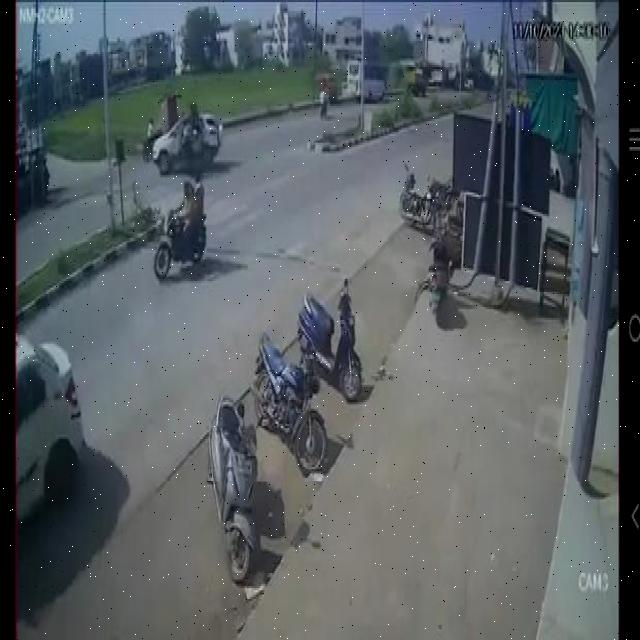accident: (148, 83, 227, 189)
